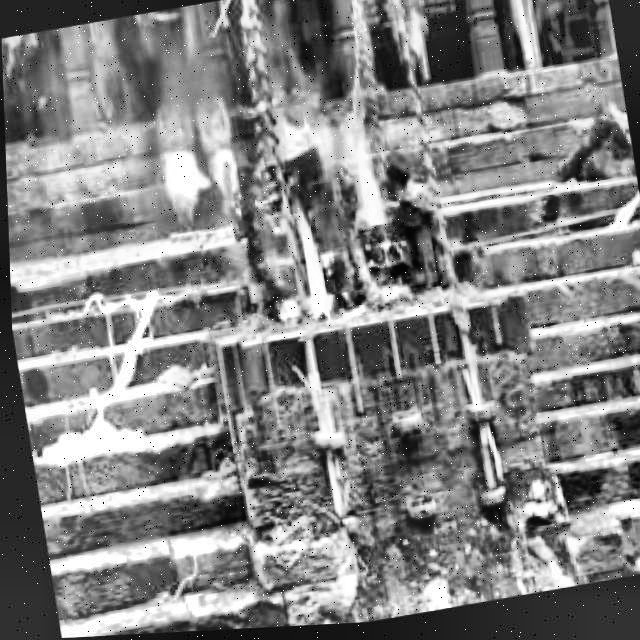Fire: (236, 54, 400, 329)
